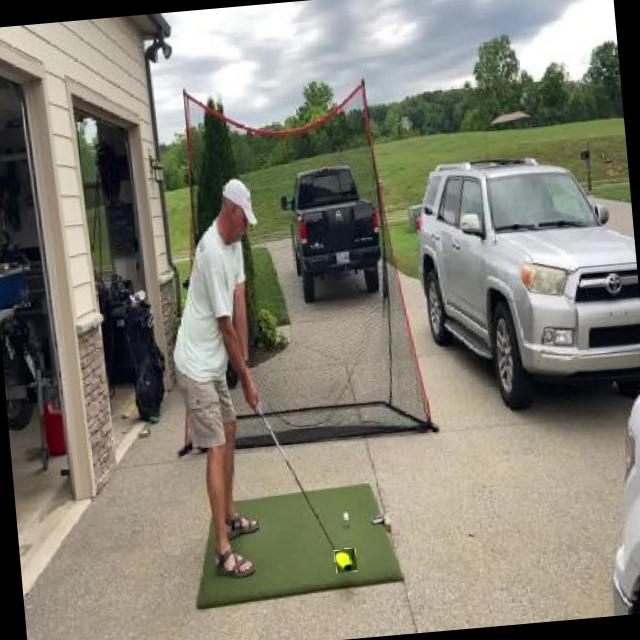club head: (334, 548, 357, 572)
